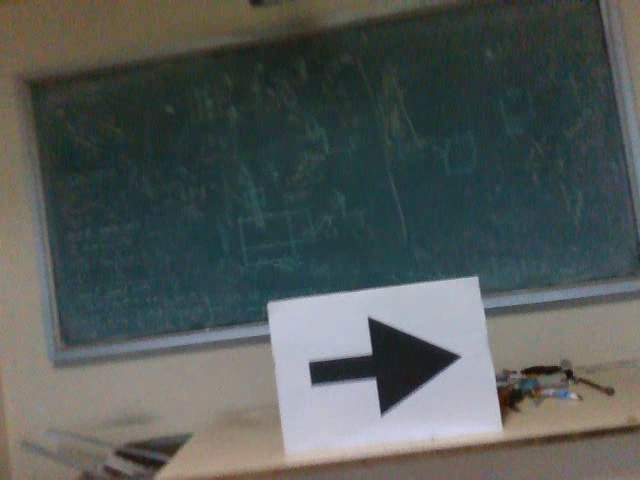Right: (300, 314, 466, 420)
